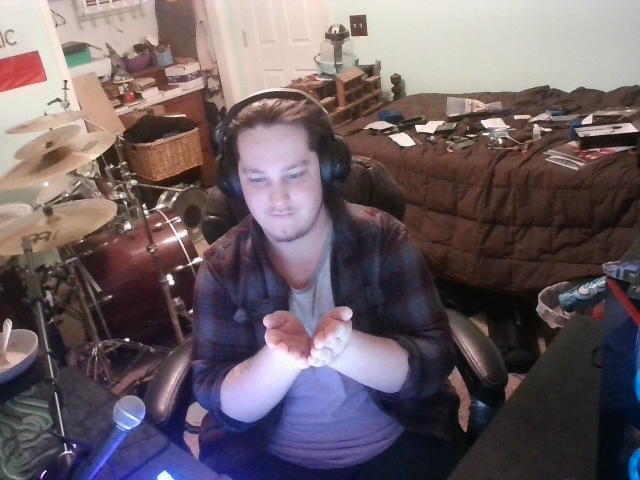book: (251, 294, 360, 382)
